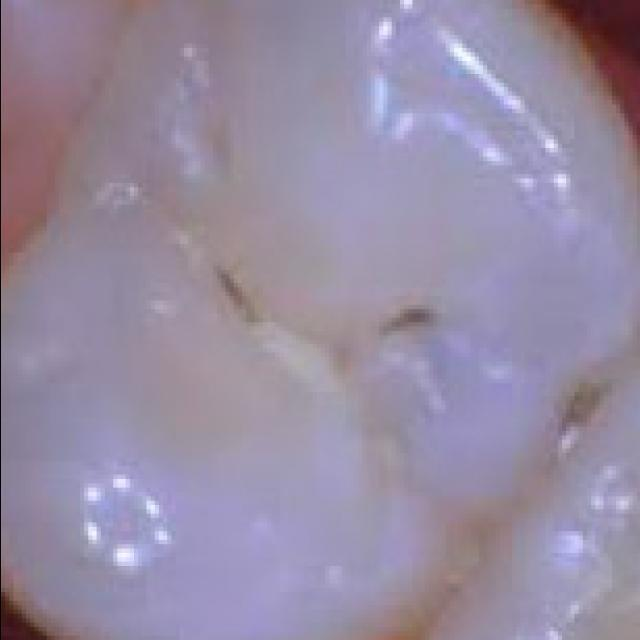caries: (175, 222, 467, 411)
